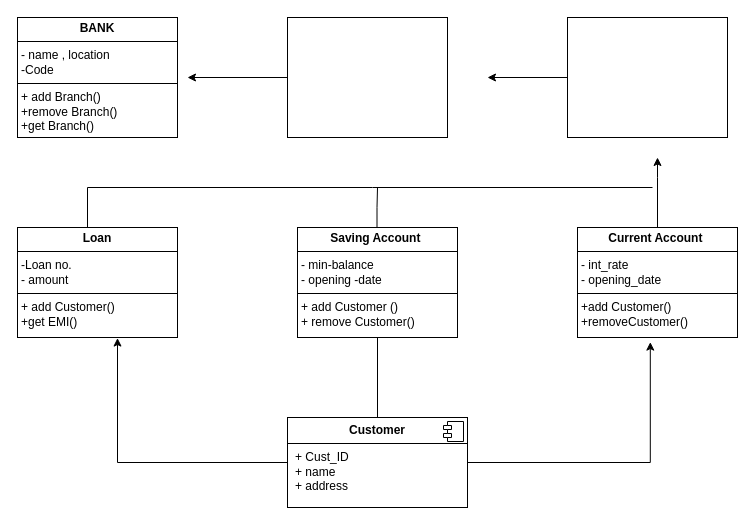
The diagram is 755 pixels wide and 525 high, and some of its shapes have lost their labels. Each missing label, with the box of its shape:
Account -Account Number -Balance + deposit () +withdraw() +add loan(): (566, 16, 728, 138)
Branch -Branch Code - City + add Account() +remove account (): (286, 16, 448, 138)
